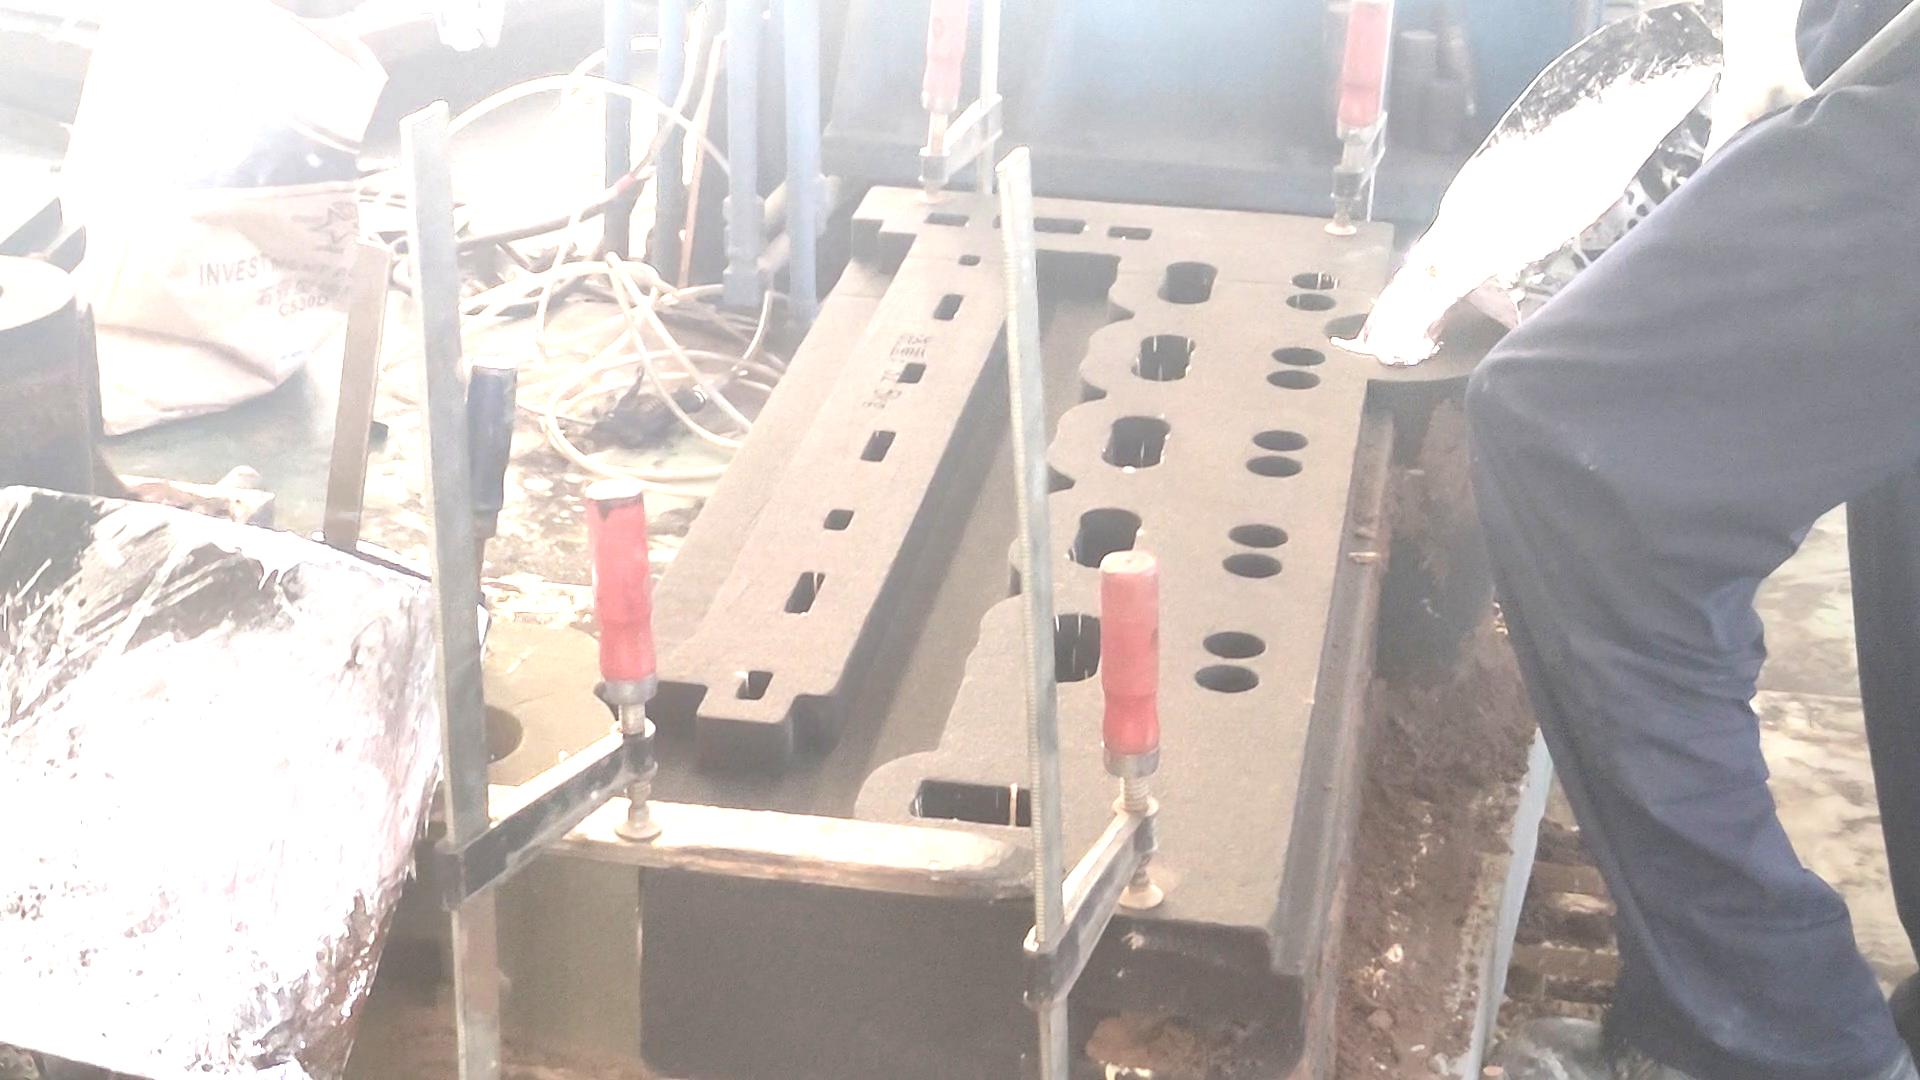pouring hole: (388, 698, 524, 767), (1324, 311, 1449, 353), (1, 284, 8, 302)
